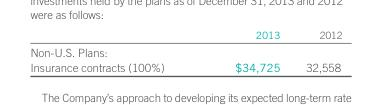table: (29, 28, 341, 73)
table column: (29, 28, 199, 73), (199, 28, 292, 73), (292, 28, 341, 73)
table column header: (29, 28, 341, 42)
table projected row header: (29, 42, 341, 59)
table row: (29, 42, 341, 59), (29, 28, 341, 42), (29, 59, 341, 73)
